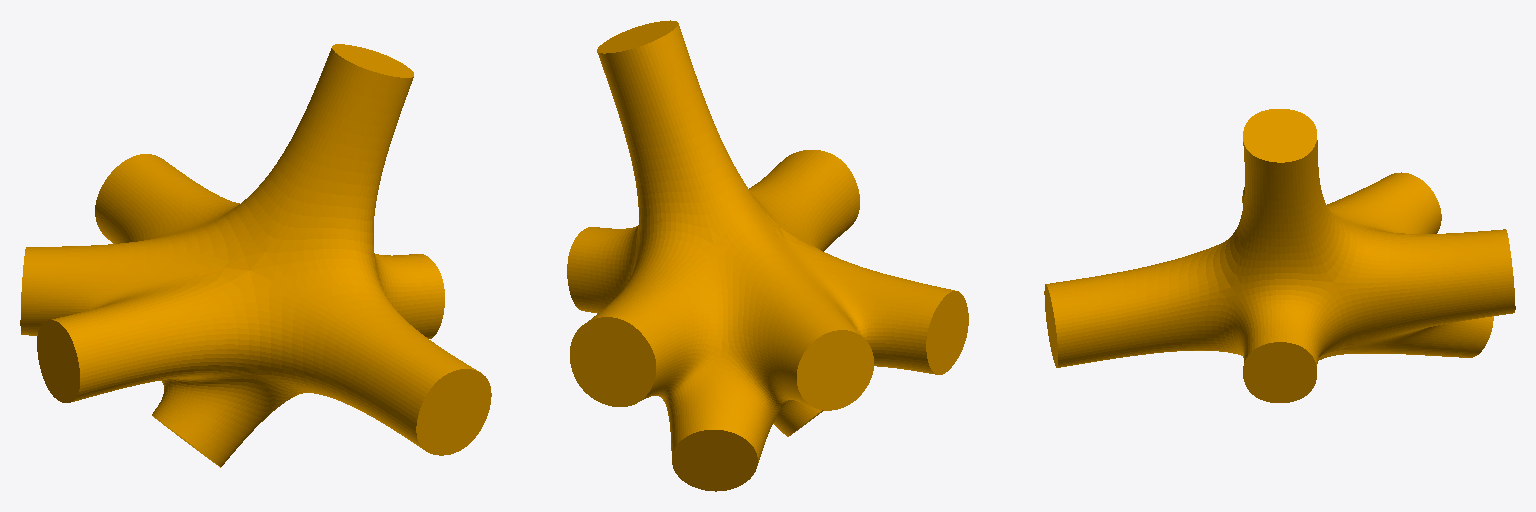
robot.urdf — object:
<robot name="object">
  <link name="object">
    <visual>
      <origin xyz="0 0 0"/>
      <geometry>
        <mesh filename="visual.obj" scale="1 1 1"/>
      </geometry>
    </visual>
    <collision>
      <origin xyz="0 0 0"/>
      <geometry>
        <mesh filename="visual.obj" scale="1 1 1"/>
      </geometry>
    </collision>
    <inertial>
      <mass value="0.05"/>
      <inertia ixx="0.0001412999652381963" iyy="0.0001087977282382118" izz="0.00016835144929150983" ixy="2.693080108145042e-05" ixz="-1.8036532857151525e-05" iyz="4.911735387331156e-06"/>
    </inertial>
  </link>
</robot>

--- Render facts (derived) ---
The picture shows the robot from 3 angles, left to right: view 1: azimuth 30°, elevation 25°; view 2: azimuth 150°, elevation 25°; view 3: azimuth 270°, elevation 25°; orthographic projection.
Model object with 1 links and 0 joints (none), rooted at object, posed all joints at 0.
Visible links, largest first — view 1: object; view 2: object; view 3: object.
Link boxes in pixels (box(x1,y1,x2,y2)): object: box(20, 44, 491, 467); object: box(567, 20, 968, 491); object: box(1044, 109, 1515, 402).
Size in the robot's own frame: 0.186 by 0.235 by 0.1808 metres.
Meshes: 1 distinct files referenced, 1 mesh visuals loaded (1 OBJ).
